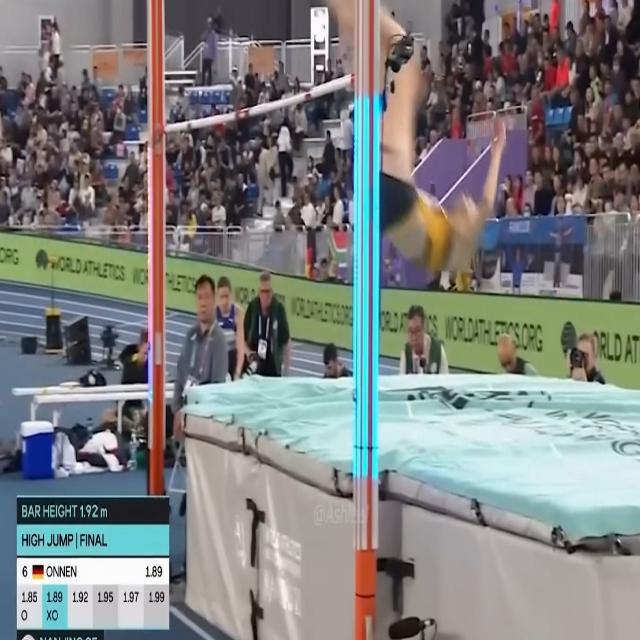land: (298, 0, 508, 280)
